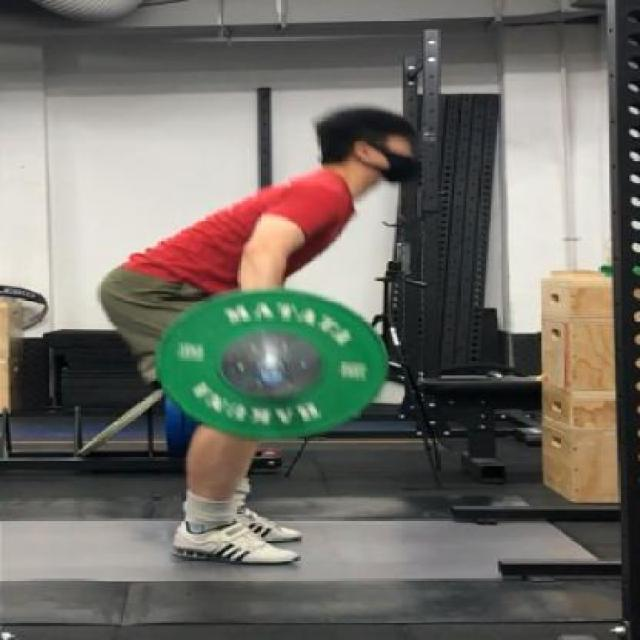barbell: (153, 283, 395, 447)
